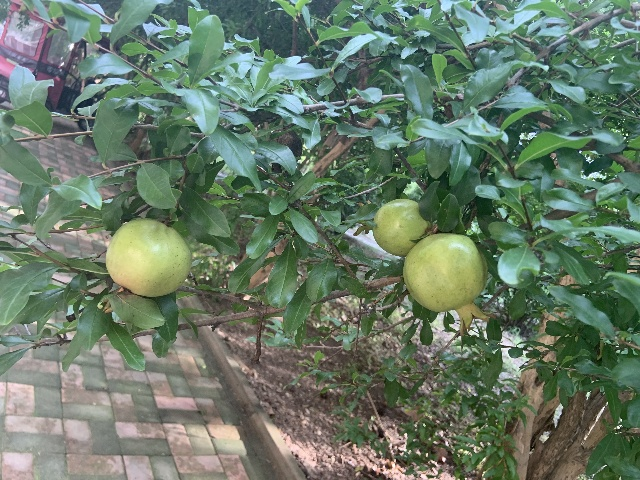mid-growth: (402, 232, 496, 336), (100, 218, 191, 316), (354, 198, 433, 255)
